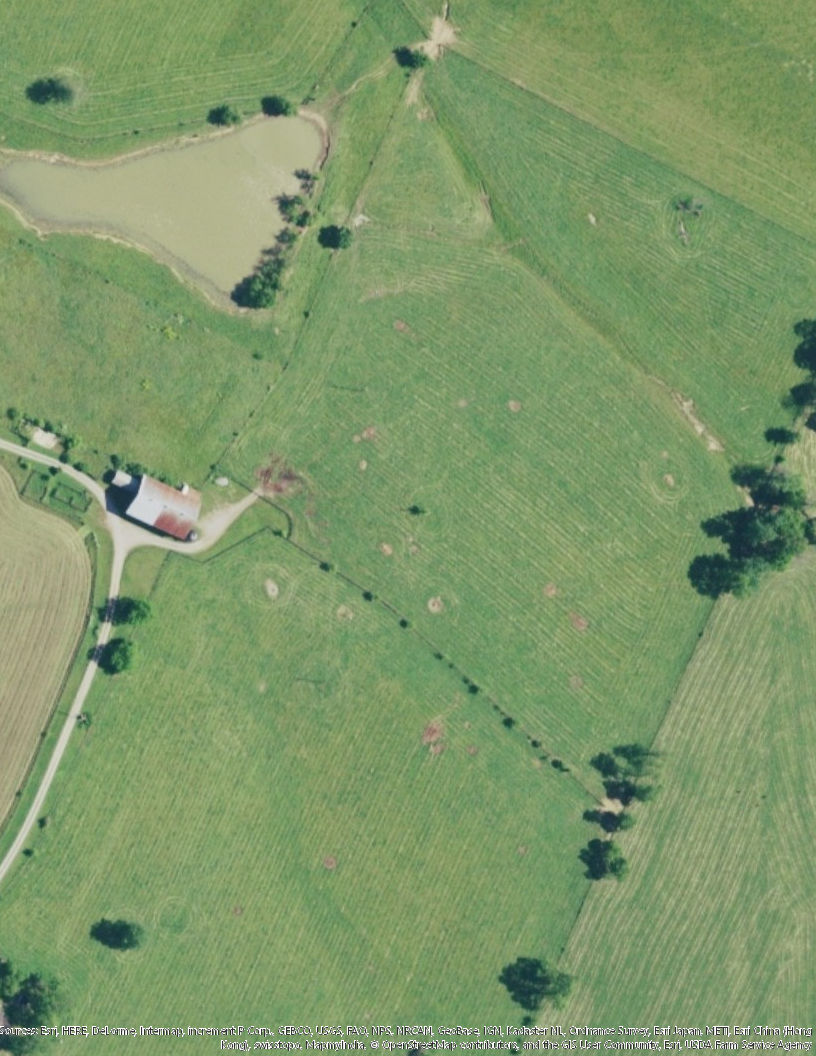cafo: (92, 457, 232, 551)
